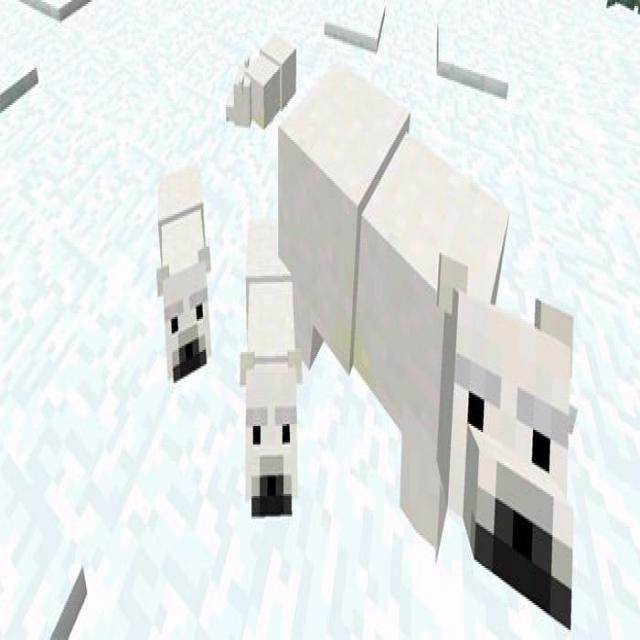Polar Bear: (276, 57, 579, 634), (240, 204, 302, 522), (151, 154, 217, 393), (221, 30, 298, 137)
